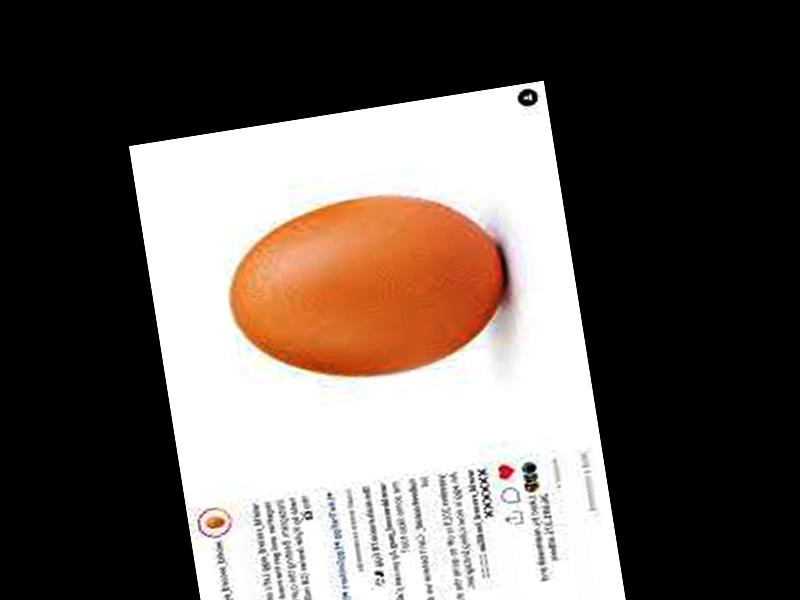Eggs: (219, 178, 514, 396)
